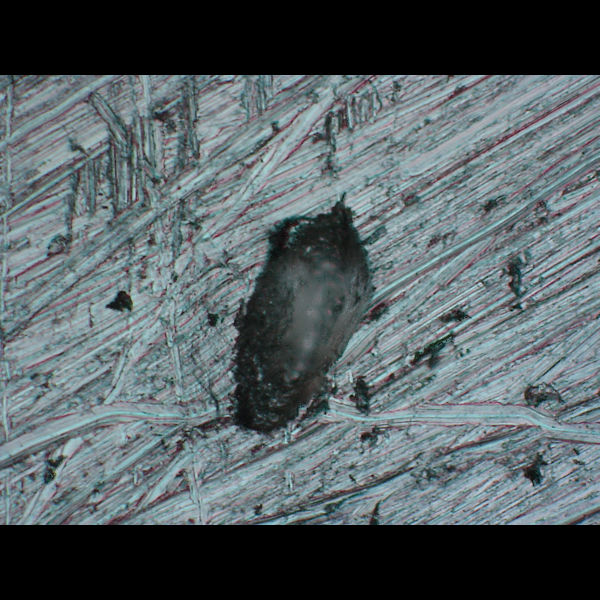d: (220, 194, 377, 446)
